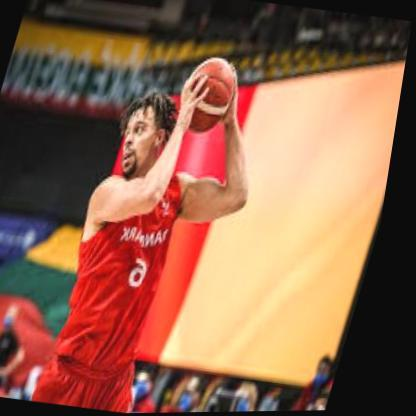basketball: (174, 52, 248, 138)
